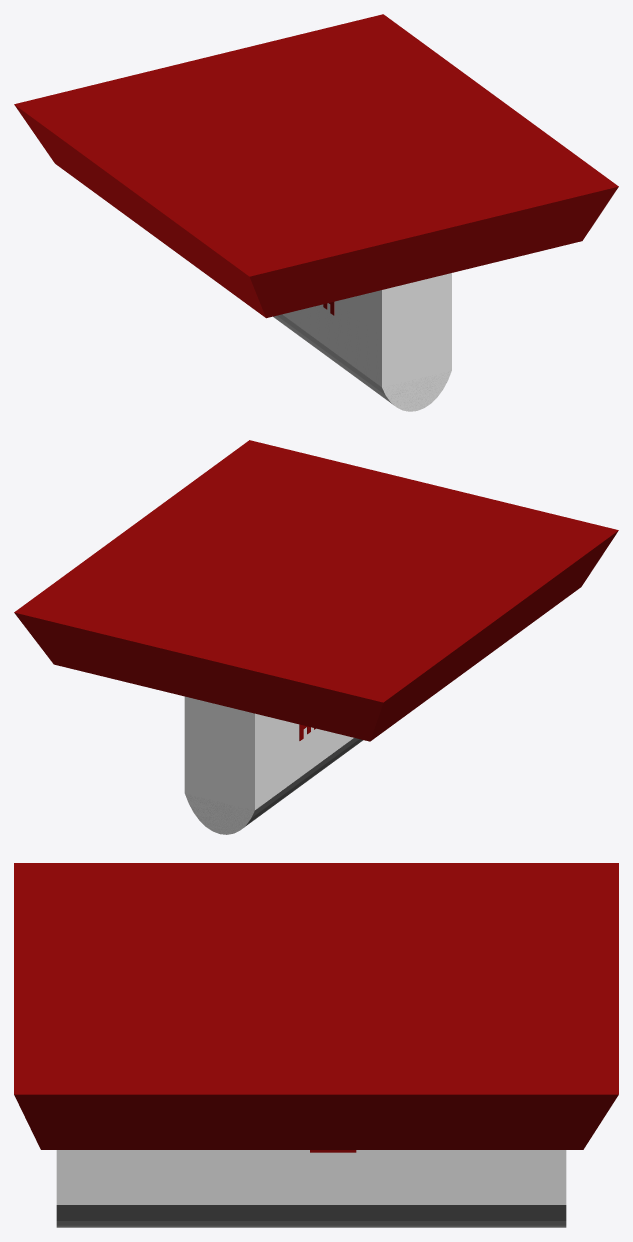
3 views of the same model, one above another, from view 1: azimuth 30°, elevation 25°; view 2: azimuth 150°, elevation 25°; view 3: azimuth 270°, elevation 25° (orthographic). The views are drawn at different scales.
Visible parts, largest first — view 1: fire alarm; view 2: fire alarm; view 3: fire alarm.
Boxes of the visible parts, x1,y1,x2,y2 form: fire alarm: (14,14,618,411); fire alarm: (14,440,618,834); fire alarm: (14,863,618,1227).
Bounding box in the file's own units: 412 × 204 × 455.
